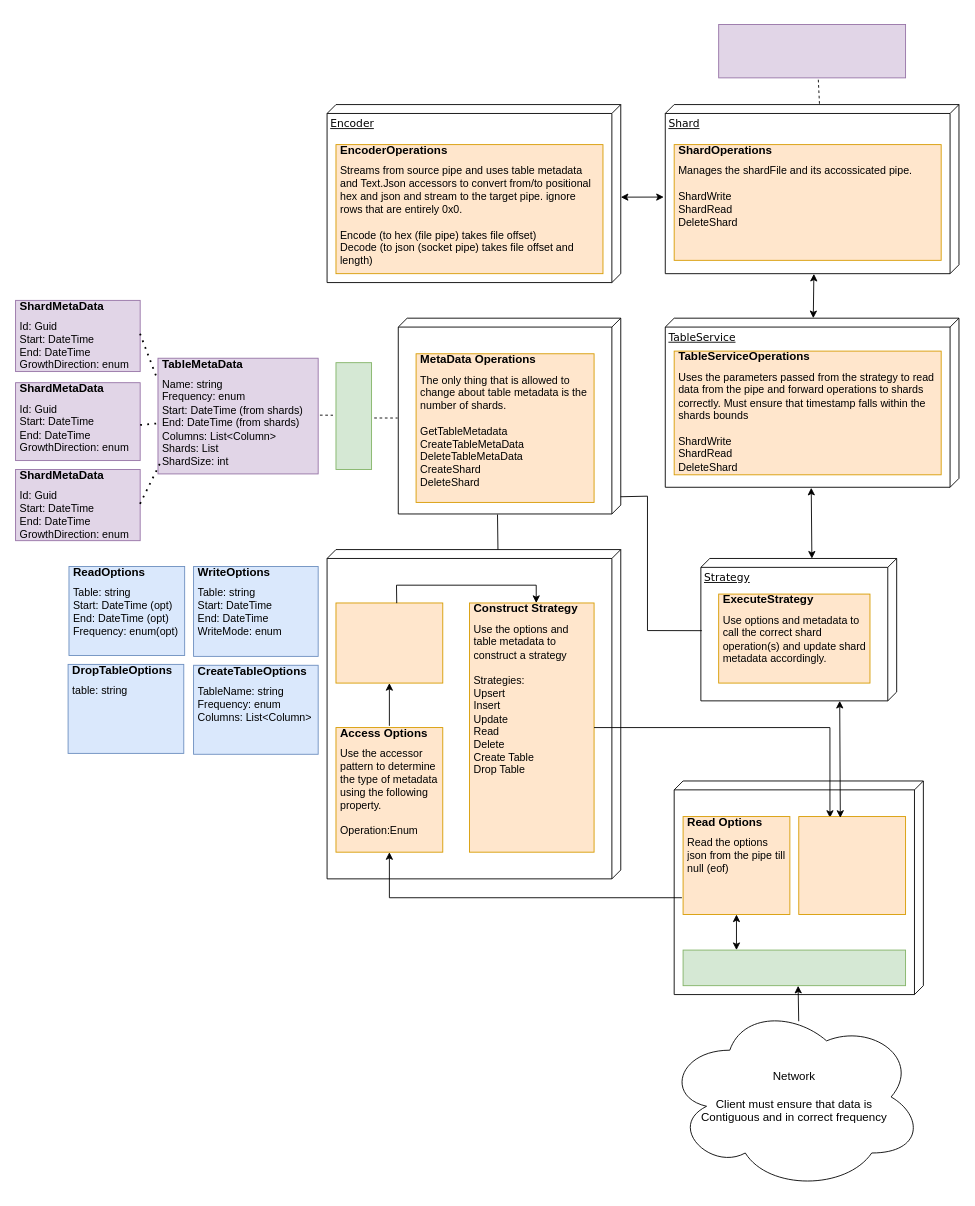
Some shapes in this 975 by 1206 pixel diagram are drawn without their labels. Each missing label, with the box of its shape:
C a c h e: (335, 362, 372, 469)
Execute Strategy Pass pipe to strategy and await: (798, 816, 906, 914)
MetaDataService: (397, 317, 621, 514)
Parse Options Each strategy can have its own request metadata: (335, 602, 443, 683)
ShardFile Binary data by default full of 0x0 length determined by tablemetadata: (718, 24, 906, 78)
StrategyFactory: (326, 549, 621, 879)
TCP Listener: (673, 780, 923, 995)
TCP Socket TCP Socket wrapped in system.io.pipe: (682, 949, 906, 986)
